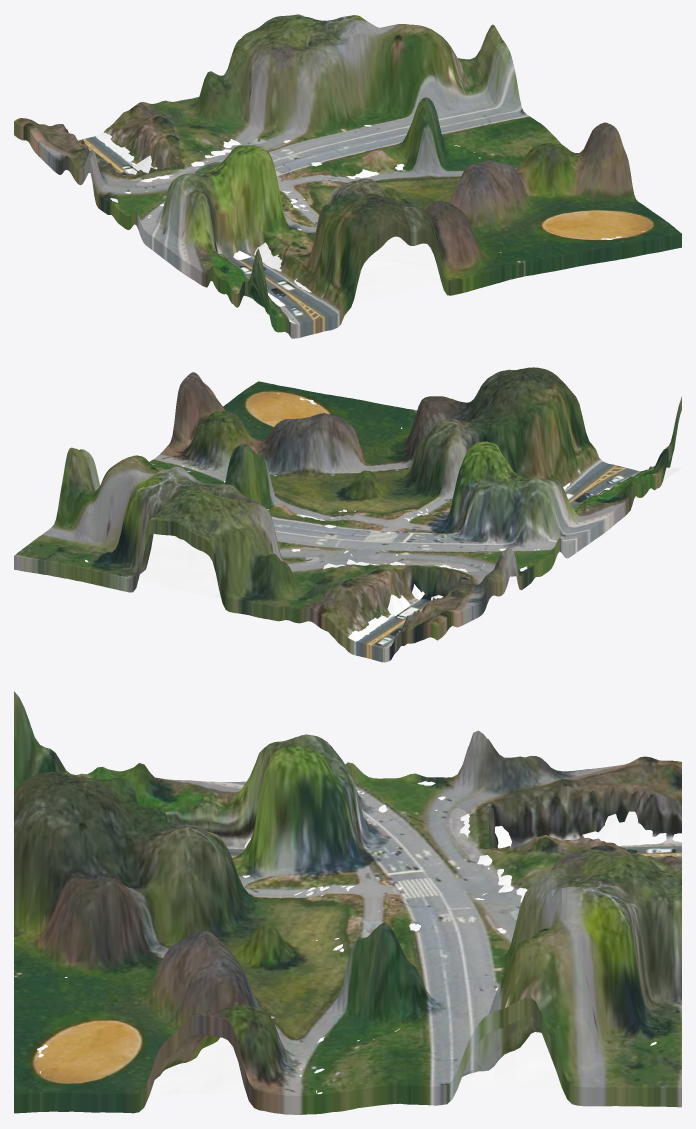
3 renders of one model, top to bottom at view 1: azimuth 30°, elevation 25°; view 2: azimuth 150°, elevation 25°; view 3: azimuth 270°, elevation 25°, orthographic. The views are drawn at different scales.
Parts seen in each view (by area): view 1: surface, ground; view 2: surface, ground; view 3: surface, ground.
Boxes of the visible parts, box(x1,y1,x2,y2) form: surface: box(14, 14, 681, 338); ground: box(69, 125, 644, 323); surface: box(14, 367, 681, 662); ground: box(85, 393, 681, 646); surface: box(14, 691, 681, 1114); ground: box(35, 781, 681, 1095).
Size of the model in its own units: 128 by 31.05 by 128.
2 materials, 1 textured.
